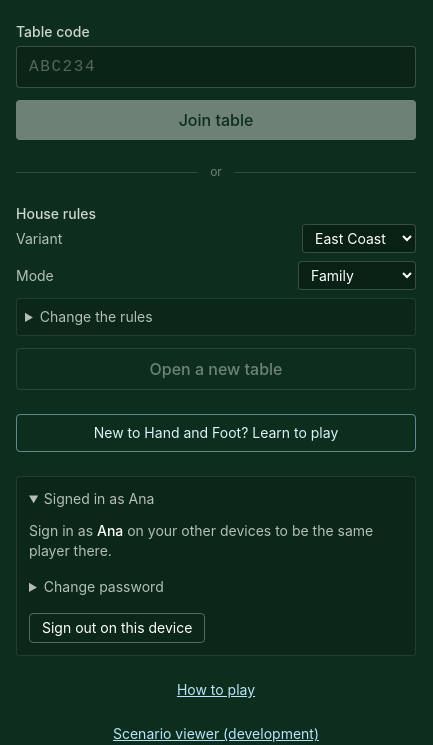
Test: signing in › when signed in › signs this device out, which then starts afresh
(page scrolled)
Click the button "Sign out on this device" at (117, 628), box x1=29 y1=613 x2=205 y2=643
(page scrolled)
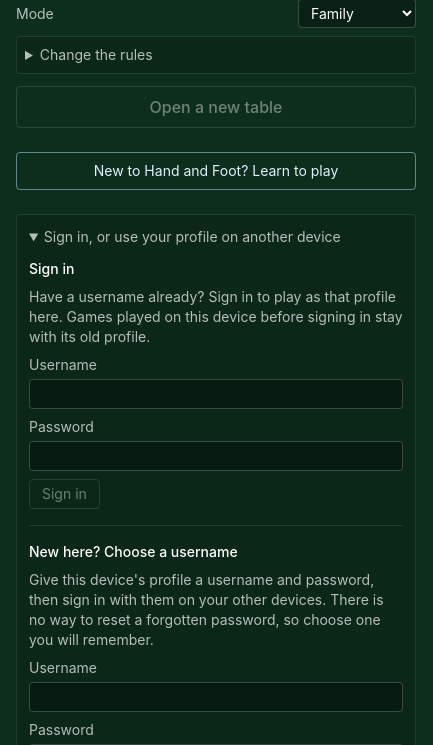
Expected: the form "Sign in" is shown, x1=29 y1=259 x2=403 y2=509
